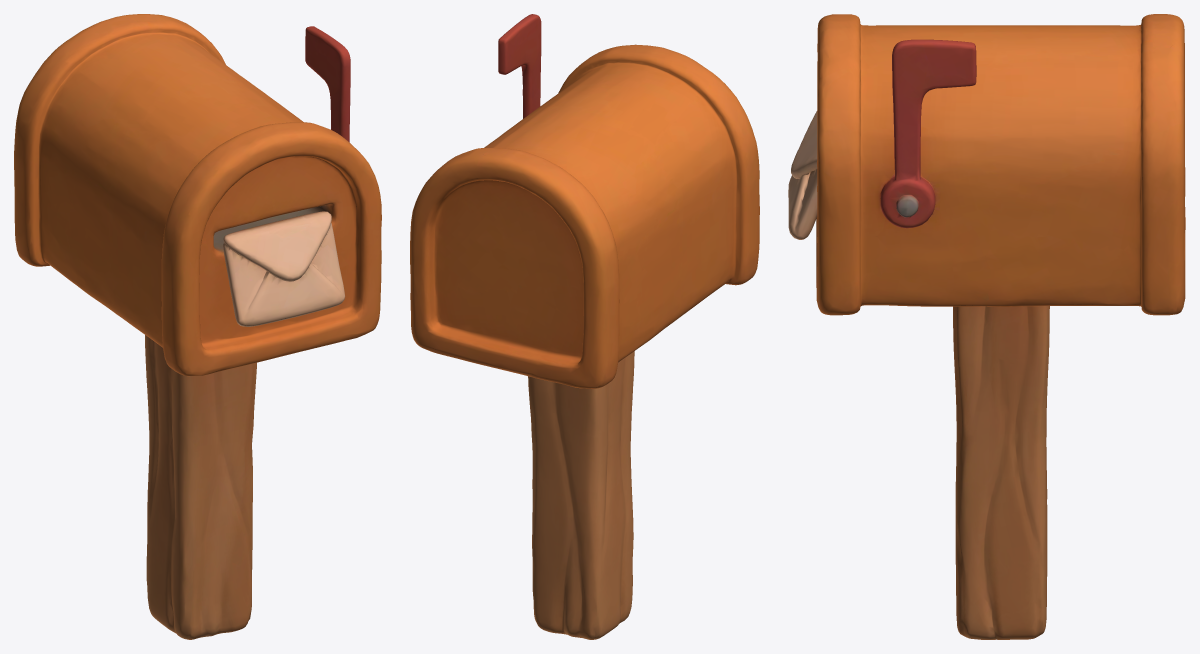
File: 17-caixa-correio.glb
The picture shows the model from 3 angles, left to right: view 1: azimuth 30°, elevation 25°; view 2: azimuth 150°, elevation 25°; view 3: azimuth 270°, elevation 25°; orthographic projection. The views are drawn at different scales.
Parts seen in each view (by area): view 1: tripo_node_b7f6dcb4-6dca-48b8-ab39-c6b9832da9ba; view 2: tripo_node_b7f6dcb4-6dca-48b8-ab39-c6b9832da9ba; view 3: tripo_node_b7f6dcb4-6dca-48b8-ab39-c6b9832da9ba.
Boxes of the visible parts, <box> form: tripo_node_b7f6dcb4-6dca-48b8-ab39-c6b9832da9ba: <box>14,14,381,639</box>; tripo_node_b7f6dcb4-6dca-48b8-ab39-c6b9832da9ba: <box>410,14,759,639</box>; tripo_node_b7f6dcb4-6dca-48b8-ab39-c6b9832da9ba: <box>788,14,1185,639</box>.
Bounding box in the file's own units: 0.3896 × 1 × 0.565.
Materials: 1 (1 with a texture image).
